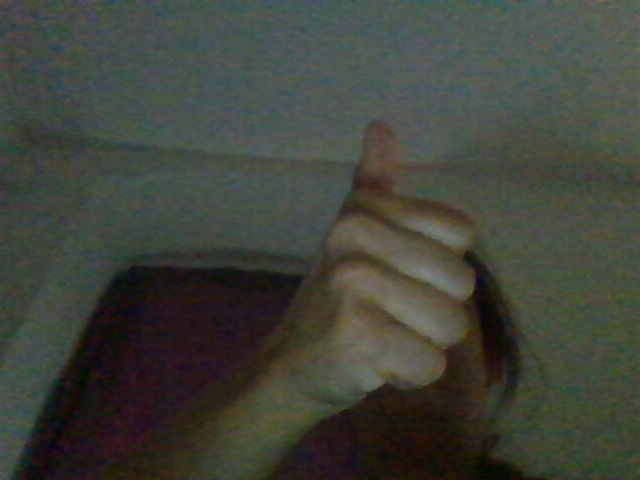Thumbs up: (280, 120, 478, 396)
